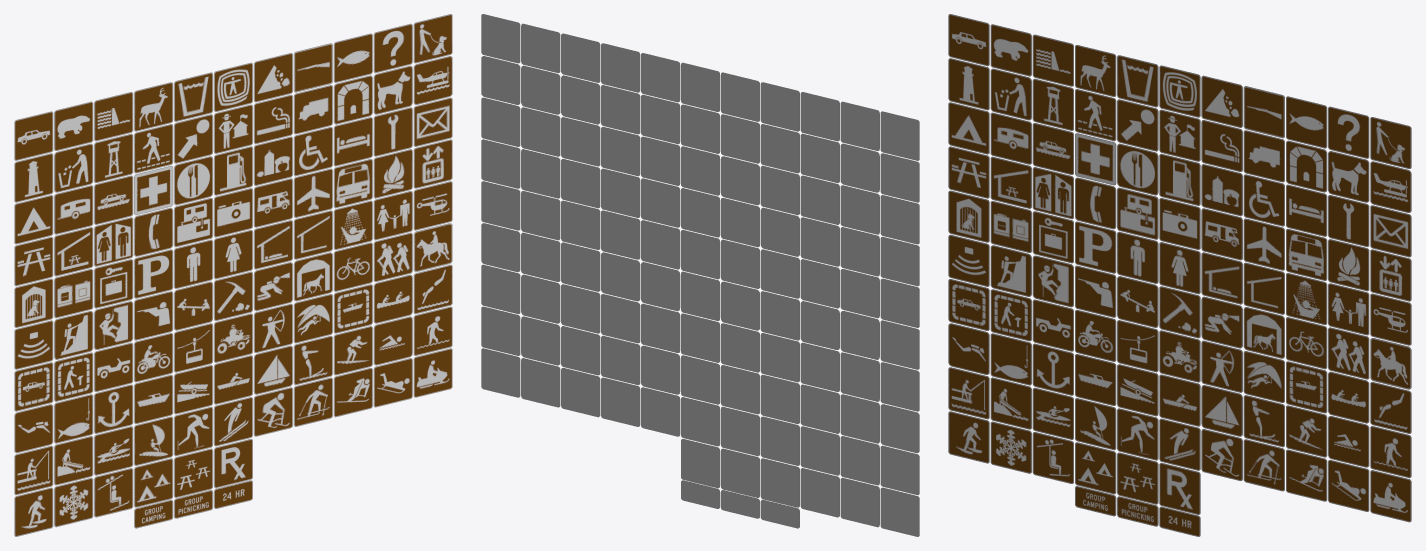
The model's file is SignsPack-USA_02.FBX.
The picture shows the model from 3 angles, left to right: view 1: azimuth 30°, elevation 25°; view 2: azimuth 150°, elevation 25°; view 3: azimuth 330°, elevation 25°; orthographic projection. The views are drawn at different scales.
Visible parts, largest first — view 1: RM-230 24-Hour Pharmacy_L001, RM-210 Group Camping_L001, RM-220 Group Picnicking_L000, RM-220 Group Picnicking_L002, RG-020 Bear Viewing Area_L001, RM-010 Camping (Tent)_L001, RS-040 Skiing (Cross Country)_L001, RG-150 Ped Xing_L000, RA-060 Laundry_L002, RA-160 Helicopter_L001, RS-070 Snowmobiling_L001, RG-050 Drinking Water_L000 (+167 smaller); view 2: RM-230 24-Hour Pharmacy_L001, RM-210 Group Camping_L001, RM-220 Group Picnicking_L002, RM-220 Group Picnicking_L000, RM-230 24-Hour Pharmacy_L002, RM-110 Post Office_L001, RG-040 Deer Viewing Area_L002, RG-050 Drinking Water_L000, RL-110 Trail(Horse)_L000, RS-040 Skiing (Cross Country)_L001, RG-070 Falling Rocks_L002, RM-020 Camping (Trailer)_L001 (+158 smaller); view 3: RM-220 Group Picnicking_L000, RM-230 24-Hour Pharmacy_L001, RM-210 Group Camping_L001, RG-050 Drinking Water_L000, RA-060 Laundry_L002, RL-120 Trail (Interpretive, Auto)_L000, RS-080 Snowshoeing_L000, RA-040 Elevator_L002, RW-170 Hand Launch_L000, RG-100 Information_L001, RG-110 Leashed Pets_L001, RA-110 Shelter (Sleeping)_L000 (+170 smaller).
Boxes of the visible parts, x1,y1,x2,y2 form: RM-230 24-Hour Pharmacy_L001: (214, 439, 252, 508); RM-210 Group Camping_L001: (134, 458, 173, 528); RM-220 Group Picnicking_L000: (174, 448, 213, 518); RM-220 Group Picnicking_L002: (174, 449, 213, 518); RG-020 Bear Viewing Area_L001: (54, 101, 93, 150); RM-010 Camping (Tent)_L001: (14, 195, 53, 244); RS-040 Skiing (Cross Country)_L001: (293, 377, 332, 426); RG-150 Ped Xing_L000: (134, 124, 173, 173); RA-060 Laundry_L002: (54, 269, 93, 318); RA-160 Helicopter_L001: (413, 181, 452, 230); RS-070 Snowmobiling_L001: (413, 348, 452, 397); RG-050 Drinking Water_L000: (174, 72, 213, 121); RM-230 24-Hour Pharmacy_L001: (681, 439, 719, 508); RM-210 Group Camping_L001: (760, 458, 799, 528); RM-220 Group Picnicking_L002: (720, 449, 759, 518); RM-220 Group Picnicking_L000: (720, 448, 759, 518); RM-230 24-Hour Pharmacy_L002: (681, 439, 719, 508); RM-110 Post Office_L001: (481, 97, 520, 146); RG-040 Deer Viewing Area_L002: (760, 82, 799, 131); RG-050 Drinking Water_L000: (720, 72, 759, 121); RL-110 Trail(Horse)_L000: (481, 223, 520, 272); RS-040 Skiing (Cross Country)_L001: (601, 377, 640, 426); RG-070 Falling Rocks_L002: (641, 53, 680, 102); RM-020 Camping (Trailer)_L001: (840, 185, 879, 234); RM-220 Group Picnicking_L000: (1117, 452, 1158, 526); RM-230 24-Hour Pharmacy_L001: (1159, 463, 1200, 536); RM-210 Group Camping_L001: (1075, 442, 1116, 516); RG-050 Drinking Water_L000: (1117, 55, 1158, 107); RA-060 Laundry_L002: (990, 201, 1031, 252); RL-120 Trail (Interpretive, Auto)_L000: (948, 279, 989, 330); RS-080 Snowshoeing_L000: (948, 411, 989, 463); RA-040 Elevator_L002: (1370, 249, 1411, 301); RW-170 Hand Launch_L000: (990, 377, 1031, 429); RG-100 Information_L001: (1328, 106, 1369, 158); RG-110 Leashed Pets_L001: (1370, 117, 1411, 168); RA-110 Shelter (Sleeping)_L000: (1201, 252, 1242, 304).
Size of the model in its own units: 6.77 by 6.46 by 0.00366.
